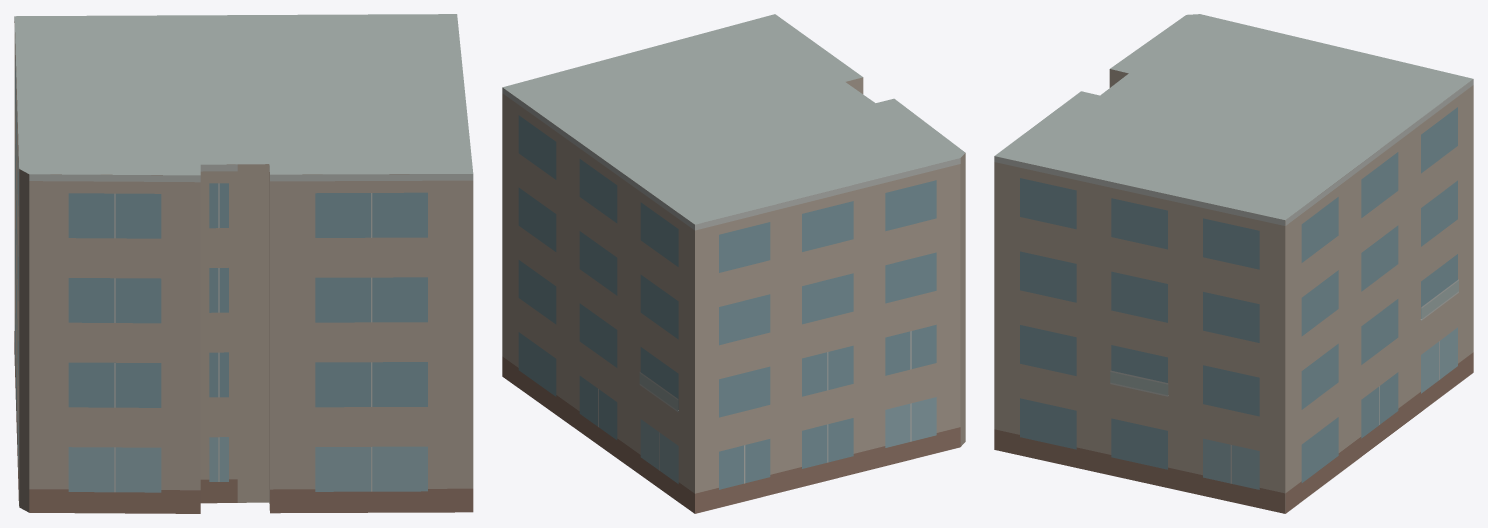
Rendered from survey-upis-32491757.glb.
The picture shows the model from 3 angles, left to right: view 1: azimuth 30°, elevation 25°; view 2: azimuth 150°, elevation 25°; view 3: azimuth 270°, elevation 25°; orthographic projection. The views are drawn at different scales.
Visible parts, largest first — view 1: survey-upis-32491757.tmp; view 2: survey-upis-32491757.tmp; view 3: survey-upis-32491757.tmp.
Boxes of the visible parts, bbox=[...] form: survey-upis-32491757.tmp: bbox=[14, 14, 473, 513]; survey-upis-32491757.tmp: bbox=[502, 14, 965, 513]; survey-upis-32491757.tmp: bbox=[994, 14, 1473, 513].
Bounding box in the file's own units: 18.23 × 12.1 × 17.91.
